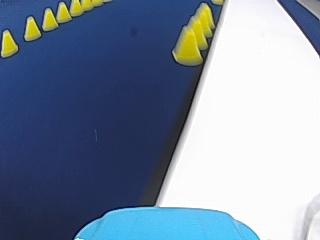cone: (171, 18, 204, 64), (187, 15, 208, 49), (194, 2, 214, 36), (0, 29, 18, 56), (22, 15, 41, 40), (41, 7, 58, 30), (55, 1, 72, 22), (69, 0, 83, 16), (81, 0, 92, 11)
